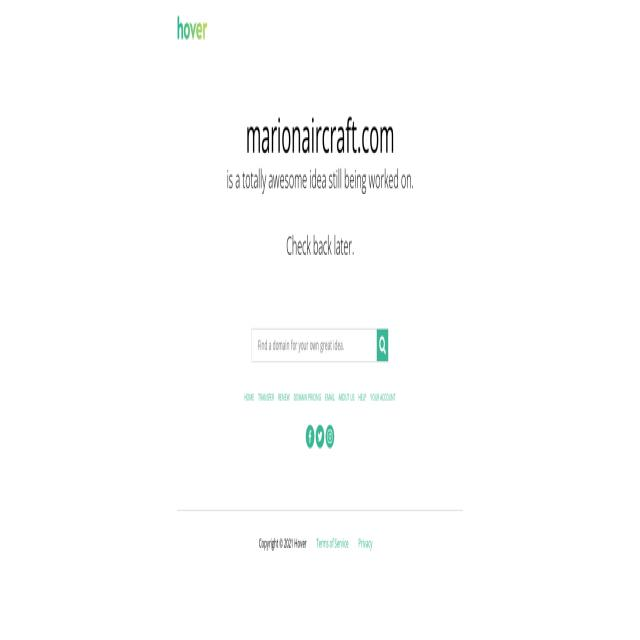button: (177, 15, 207, 40), (377, 330, 389, 360), (306, 424, 314, 448), (316, 424, 324, 448), (326, 424, 334, 448)
field: (252, 328, 376, 362)
